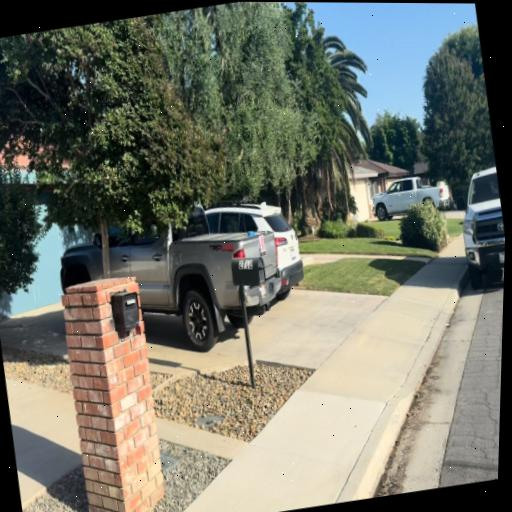bullseye: (258, 234, 265, 252)
